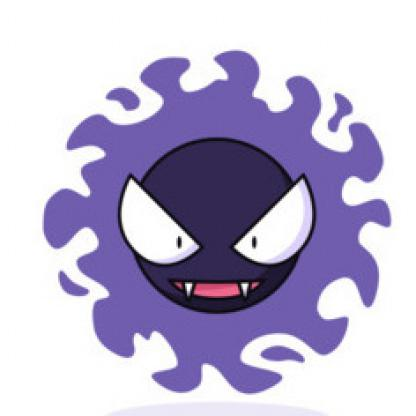Gastly: (46, 33, 400, 398)
